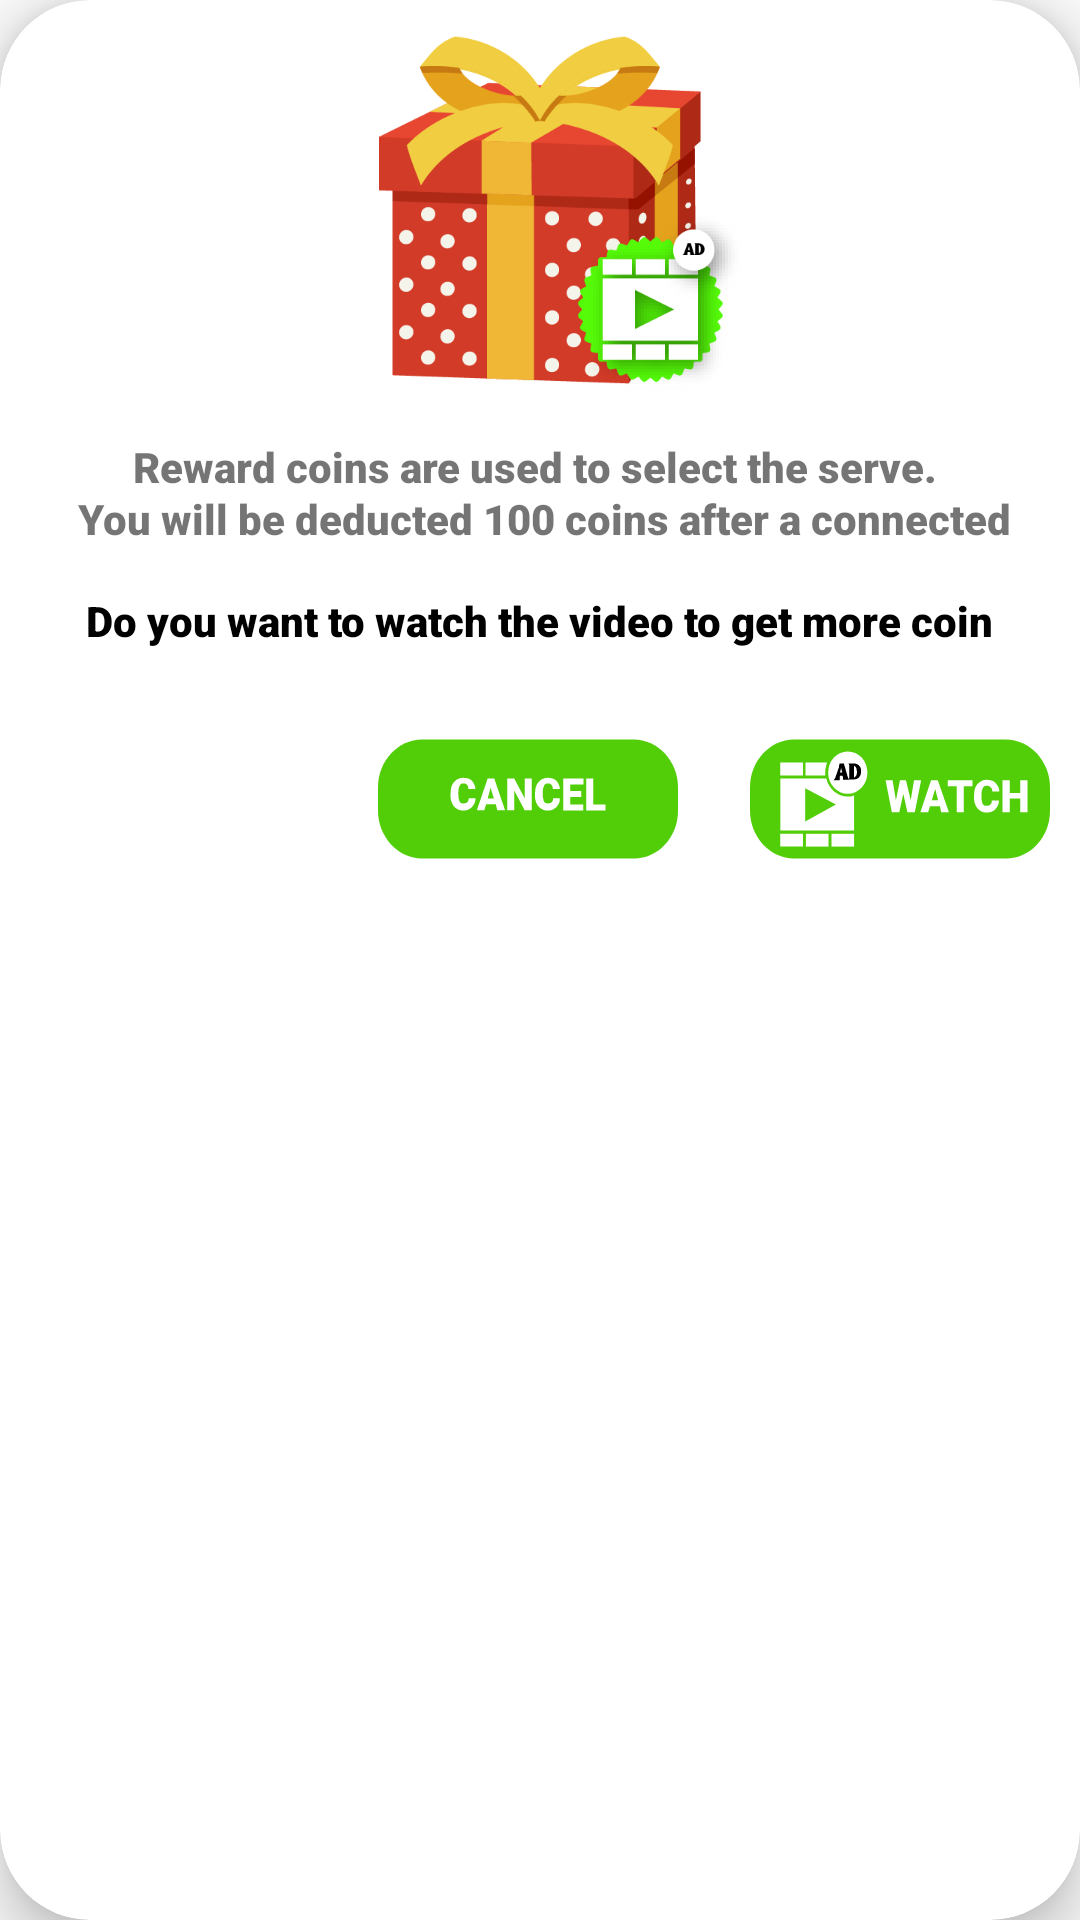

Icons on this 1080 x 1920 Android screen, each with its box as (x1=x1, y1=y1, x2=x2, y2=y2):
giftboxxxxhdpi: (x1=379, y1=36, x2=725, y2=384)
